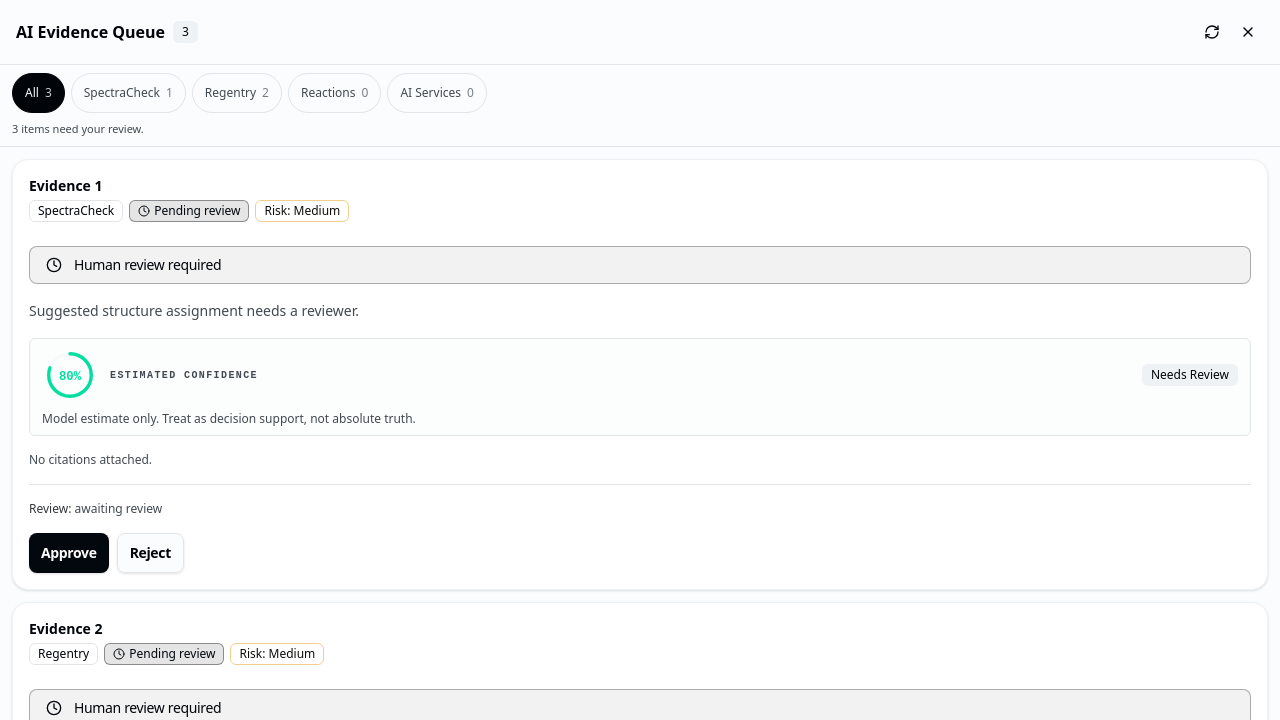
it: AIEvidenceQueuePanel › groups queued evidence by module and filters to one module
The width and height of the screenshot is (1280, 720).
Expected: the button "All 3" is shown, [12,73,65,113]
Expected: the text "3 items need your review." is shown, [12,121,144,136]
What coordinates should you click on to do the following:
click the button "Regentry 2"
I would click on:
 (237, 93)
Its box is [192,73,282,113].
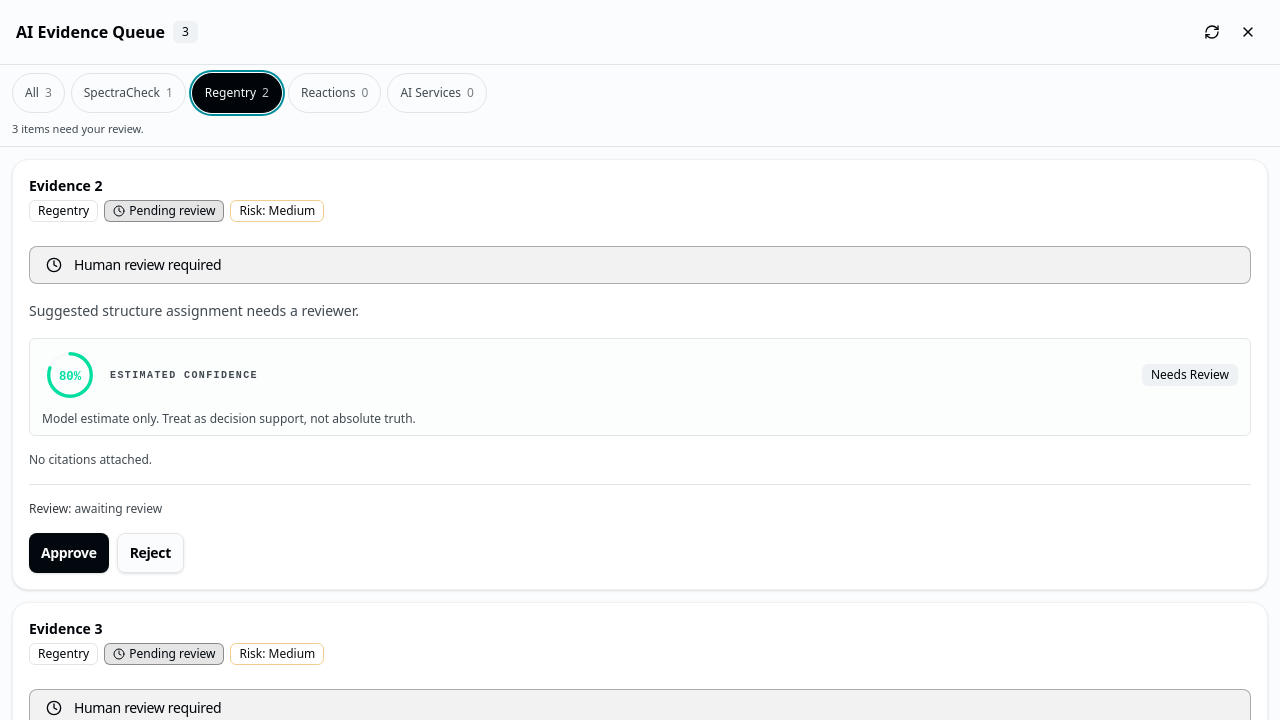
Expected: the text "Evidence 2" is shown, [29,176,102,194]
Expected: the text "Evidence 1" is gone
